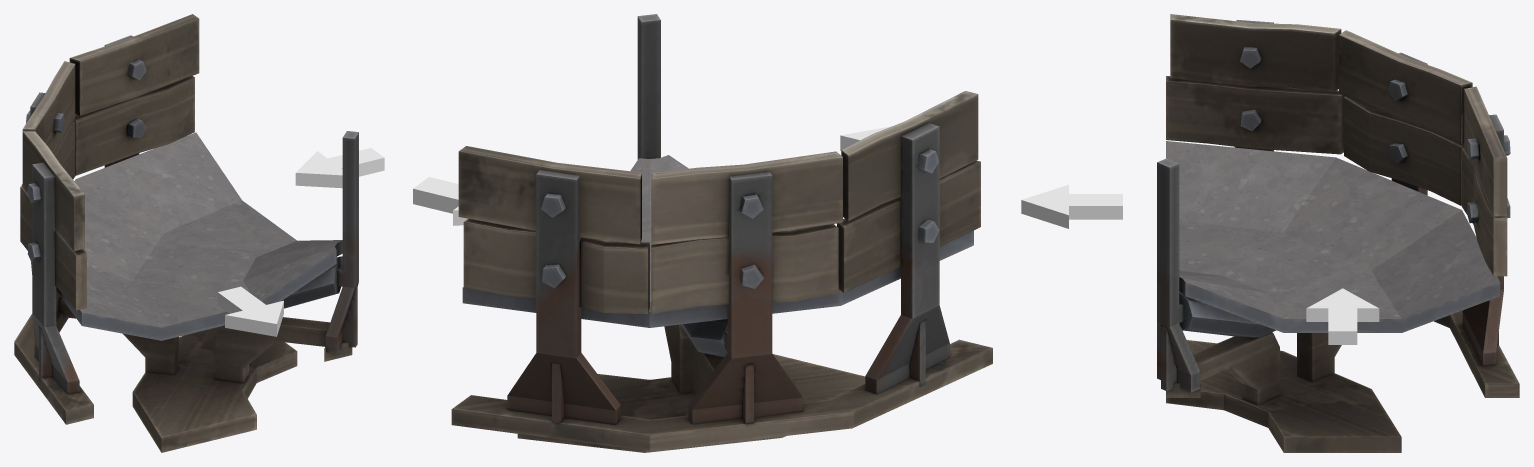
Rendered from WallConveyor_90.glb.
The picture shows the model from 3 angles, left to right: view 1: azimuth 30°, elevation 25°; view 2: azimuth 150°, elevation 25°; view 3: azimuth 270°, elevation 25°; orthographic projection. The views are drawn at different scales.
Visible parts, largest first — view 1: WallConveyor_90, ghostarrow, ghostarrow (1); view 2: WallConveyor_90, ghostarrow (1); view 3: WallConveyor_90, ghostarrow, ghostarrow (1).
Part boxes in pixels (<box>): WallConveyor_90: <box>14,14,358,452</box>; ghostarrow: <box>217,286,283,336</box>; ghostarrow (1): <box>295,148,384,188</box>; WallConveyor_90: <box>451,14,992,452</box>; ghostarrow (1): <box>413,177,467,225</box>; WallConveyor_90: <box>1157,14,1519,452</box>; ghostarrow: <box>1021,184,1122,228</box>; ghostarrow (1): <box>1306,288,1379,344</box>.
Bounding box in the file's own units: 1.38 × 0.9226 × 1.41.
Materials: 3 (2 with a texture image).
